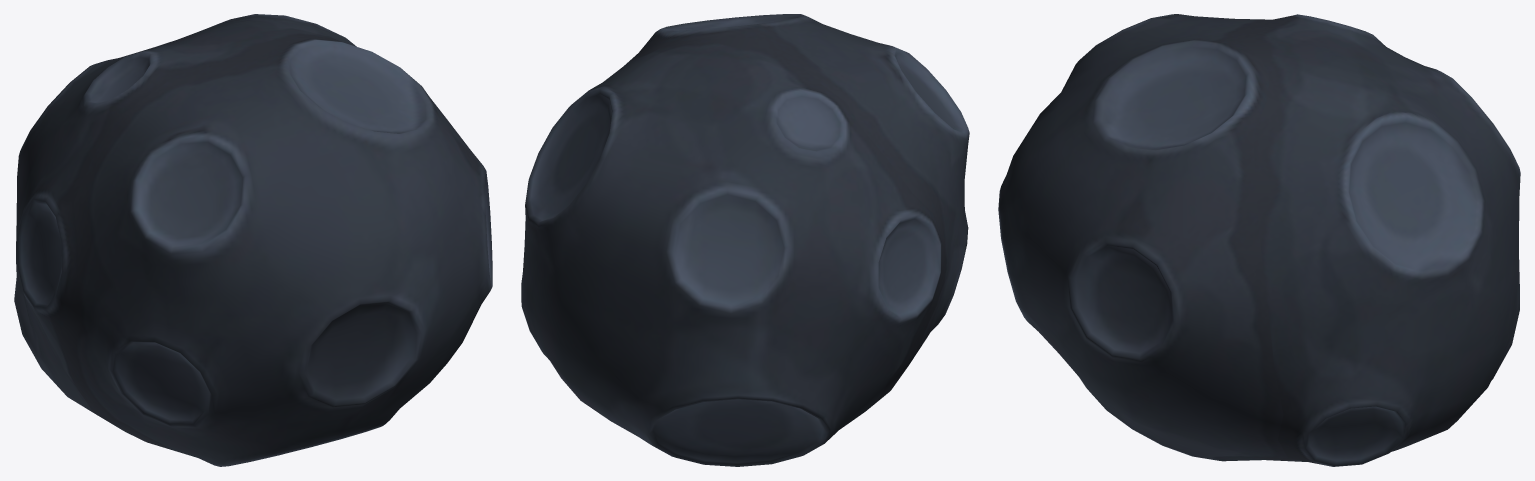
The model's file is Asteroid_Mesh_2.fbx.
The picture shows the model from 3 angles, left to right: view 1: azimuth 30°, elevation 25°; view 2: azimuth 150°, elevation 25°; view 3: azimuth 270°, elevation 25°; orthographic projection. The views are drawn at different scales.
Parts seen in each view (by area): view 1: Asteroid_Mesh_2; view 2: Asteroid_Mesh_2; view 3: Asteroid_Mesh_2.
Part boxes in pixels (x1,y1,x2,y2): Asteroid_Mesh_2: (14, 14, 492, 466); Asteroid_Mesh_2: (521, 14, 969, 466); Asteroid_Mesh_2: (998, 14, 1520, 466).
Bounding box in the file's own units: 9.5 × 9.15 × 10.59.
